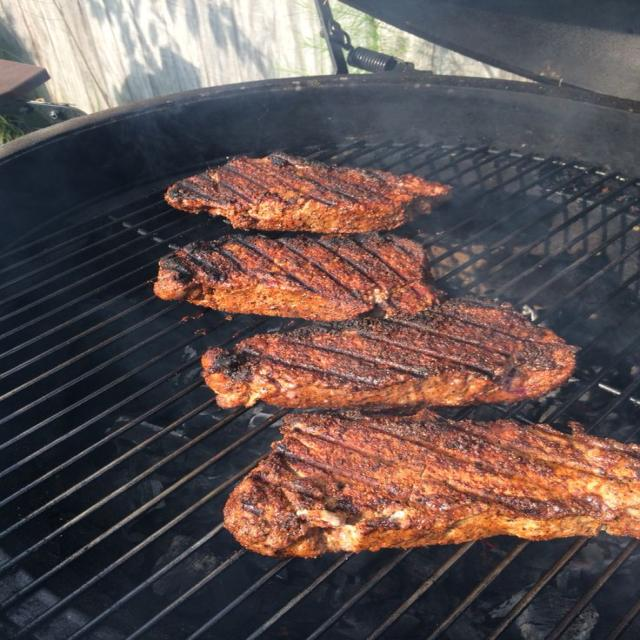beef steak: (224, 410, 639, 557), (202, 296, 575, 410), (154, 232, 443, 320), (166, 152, 450, 234)
